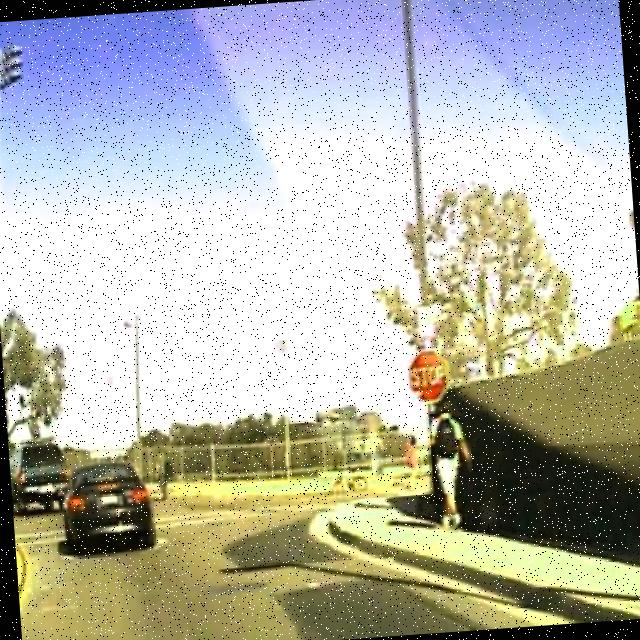Stop: (406, 349, 452, 406)
